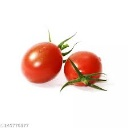tomato: (23, 42, 63, 84), (66, 52, 102, 85)
